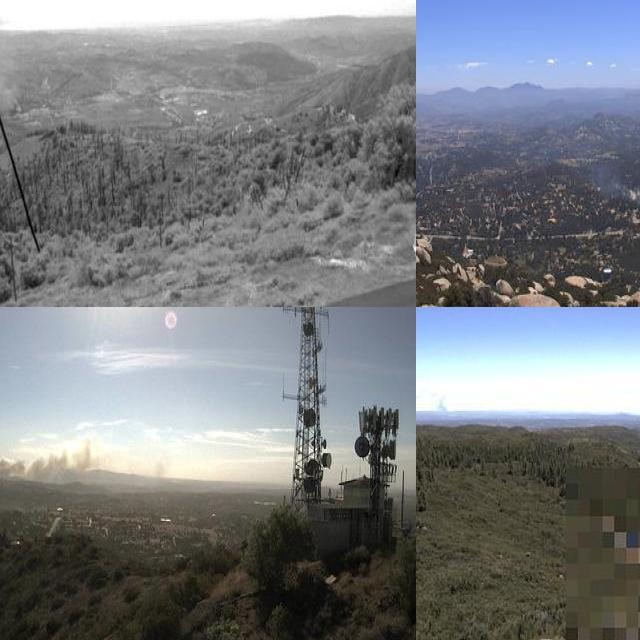smoke: (0, 429, 110, 493), (0, 0, 29, 119), (594, 168, 640, 208), (431, 396, 451, 415)
